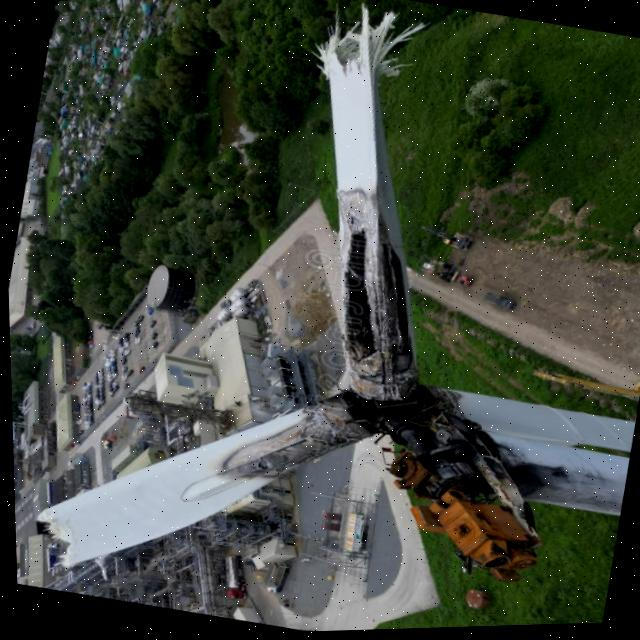damaged-blade: (35, 399, 367, 564), (318, 8, 422, 402)
